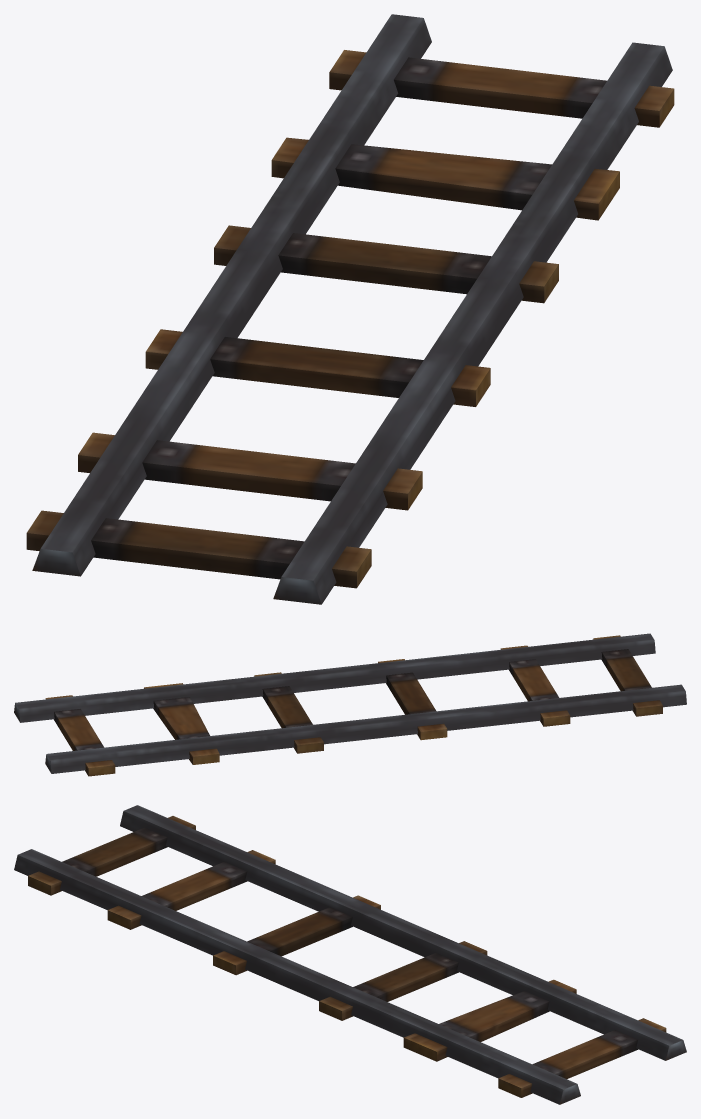
Rendered from Wagon_Tracks1.fbx.
3 renders of one model, top to bottom at view 1: azimuth 30°, elevation 25°; view 2: azimuth 150°, elevation 25°; view 3: azimuth 270°, elevation 25°, orthographic. The views are drawn at different scales.
Parts seen in each view (by area): view 1: Wagon_Tracks1; view 2: Wagon_Tracks1; view 3: Wagon_Tracks1.
Part boxes in pixels (x1=…): Wagon_Tracks1: x1=26, y1=14, x2=674, y2=604; Wagon_Tracks1: x1=14, y1=633, x2=686, y2=776; Wagon_Tracks1: x1=14, y1=805, x2=686, y2=1104.
Size of the model in its own units: 437 by 11.29 by 432.
Materials: 1 (1 with a texture image).
